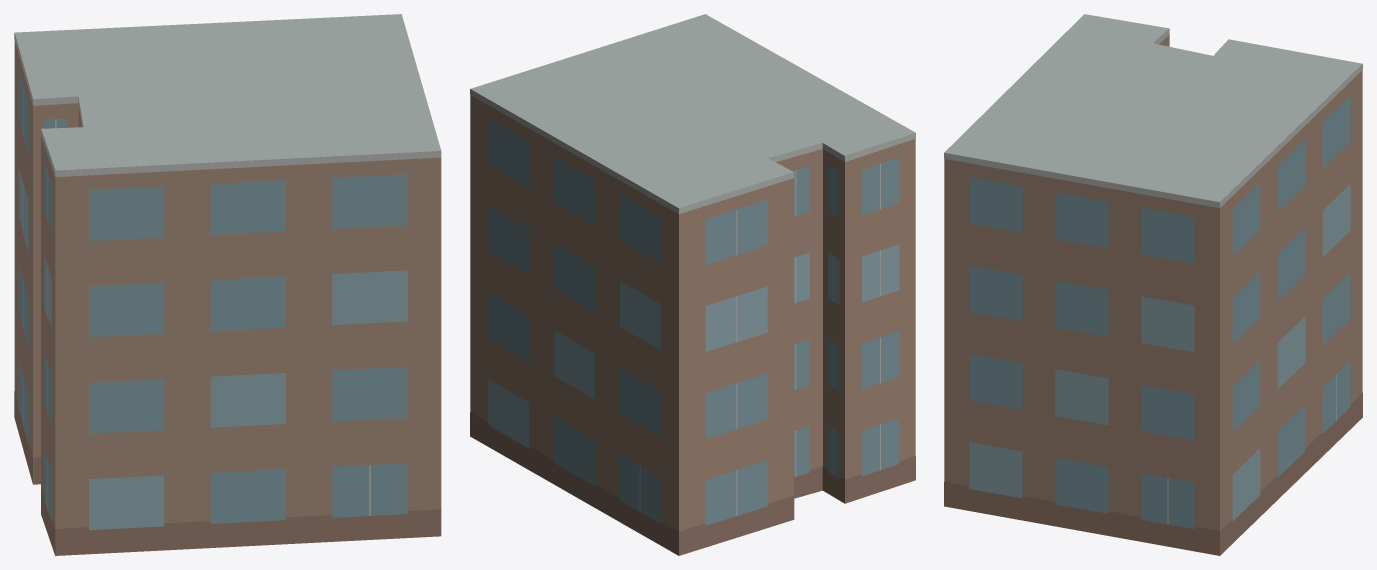
File: survey-upis-32825597.glb
3 views of the same model, side by side, from view 1: azimuth 30°, elevation 25°; view 2: azimuth 150°, elevation 25°; view 3: azimuth 270°, elevation 25° (orthographic). The views are drawn at different scales.
Parts seen in each view (by area): view 1: survey-upis-32825597.tmp; view 2: survey-upis-32825597.tmp; view 3: survey-upis-32825597.tmp.
Boxes of the visible parts, x1,y1,x2,y2 form: survey-upis-32825597.tmp: [14, 14, 441, 555]; survey-upis-32825597.tmp: [470, 14, 915, 555]; survey-upis-32825597.tmp: [944, 14, 1362, 555].
Bounding box in the file's own units: 16.27 × 14.25 × 15.3.
